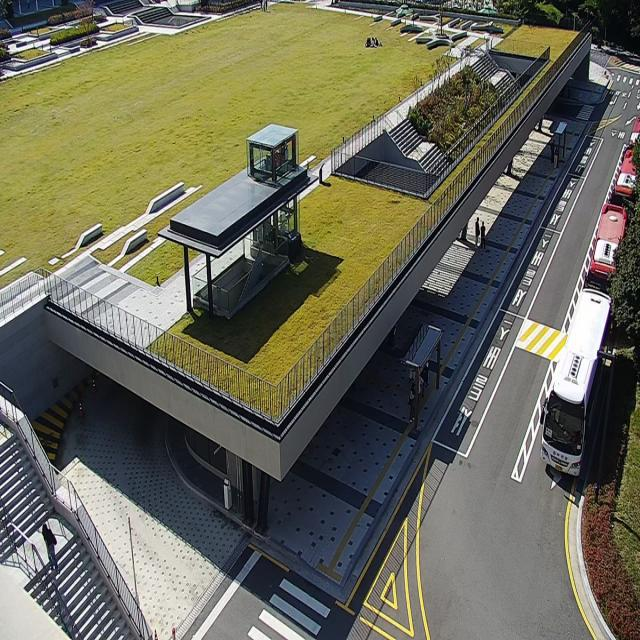queue: (416, 333, 442, 431)
